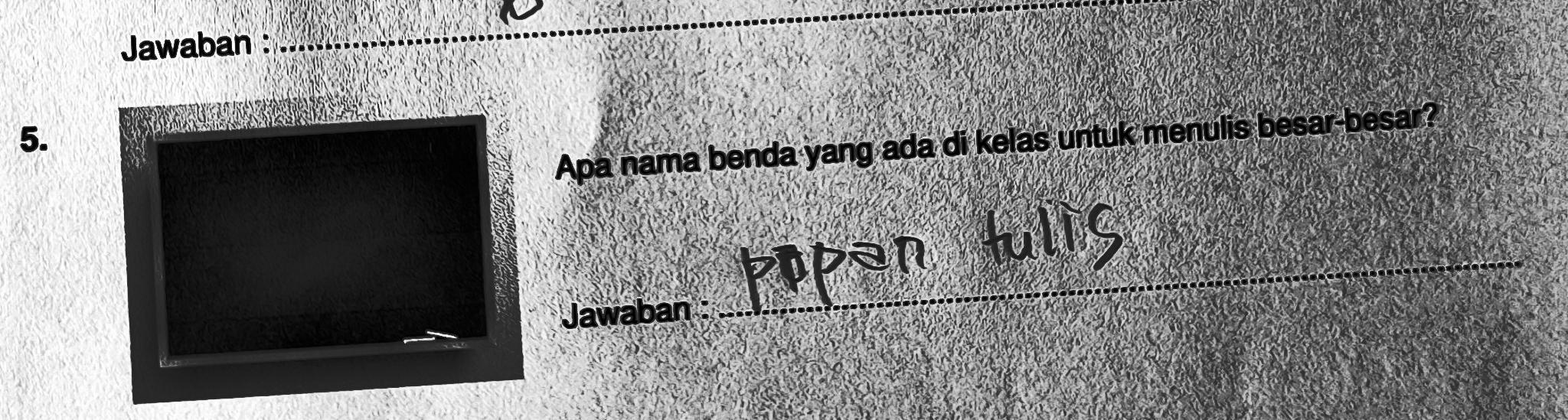jawaban: (738, 228, 933, 311), (979, 189, 1126, 273)
